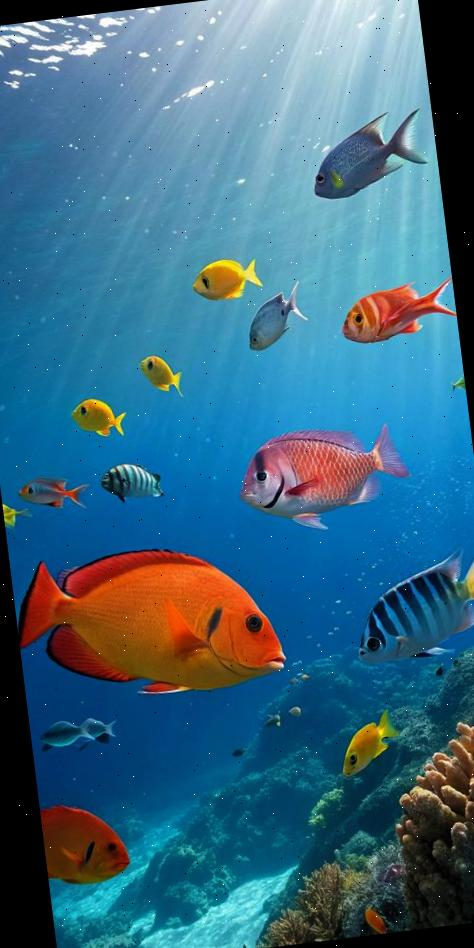fish: (9, 531, 289, 712), (234, 417, 414, 540), (346, 543, 474, 669), (305, 106, 432, 202), (334, 274, 458, 346), (40, 798, 132, 888), (241, 276, 312, 352), (335, 704, 404, 777), (188, 254, 264, 307), (17, 472, 92, 515), (100, 457, 164, 507), (70, 393, 130, 442), (140, 352, 184, 402), (38, 718, 95, 750), (80, 714, 117, 744), (452, 373, 466, 393)
